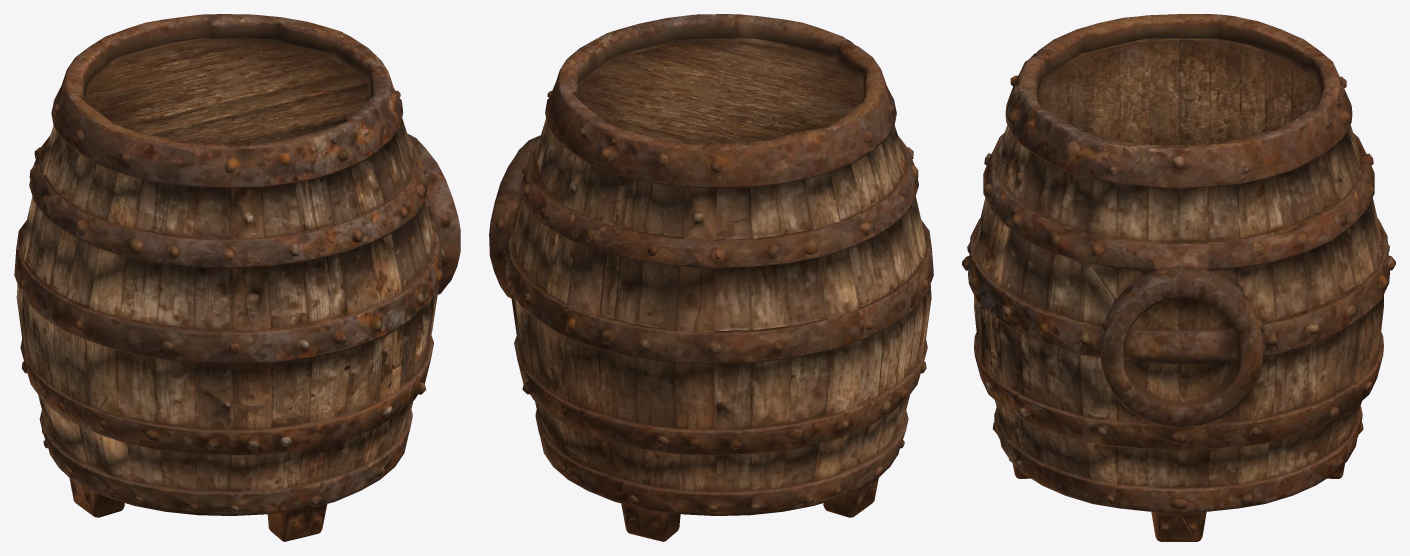
The model's file is barrel.glb.
The picture shows the model from 3 angles, left to right: view 1: azimuth 30°, elevation 25°; view 2: azimuth 150°, elevation 25°; view 3: azimuth 270°, elevation 25°; orthographic projection.
Parts seen in each view (by area): view 1: tripo_node_1f0dc620-1629-4b01-bbd7-9190d1a718a8; view 2: tripo_node_1f0dc620-1629-4b01-bbd7-9190d1a718a8; view 3: tripo_node_1f0dc620-1629-4b01-bbd7-9190d1a718a8.
Part boxes in pixels (x1,y1,x2,y2): tripo_node_1f0dc620-1629-4b01-bbd7-9190d1a718a8: [14, 14, 460, 541]; tripo_node_1f0dc620-1629-4b01-bbd7-9190d1a718a8: [489, 14, 933, 541]; tripo_node_1f0dc620-1629-4b01-bbd7-9190d1a718a8: [962, 14, 1395, 541].
Bounding box in the file's own units: 0.9738 × 0.9777 × 0.9738.
Materials: 1 (1 with a texture image).
